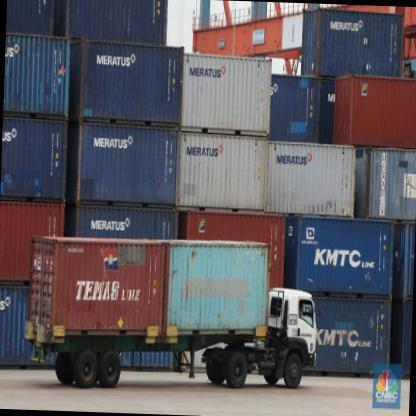truck: (267, 287, 322, 393)
